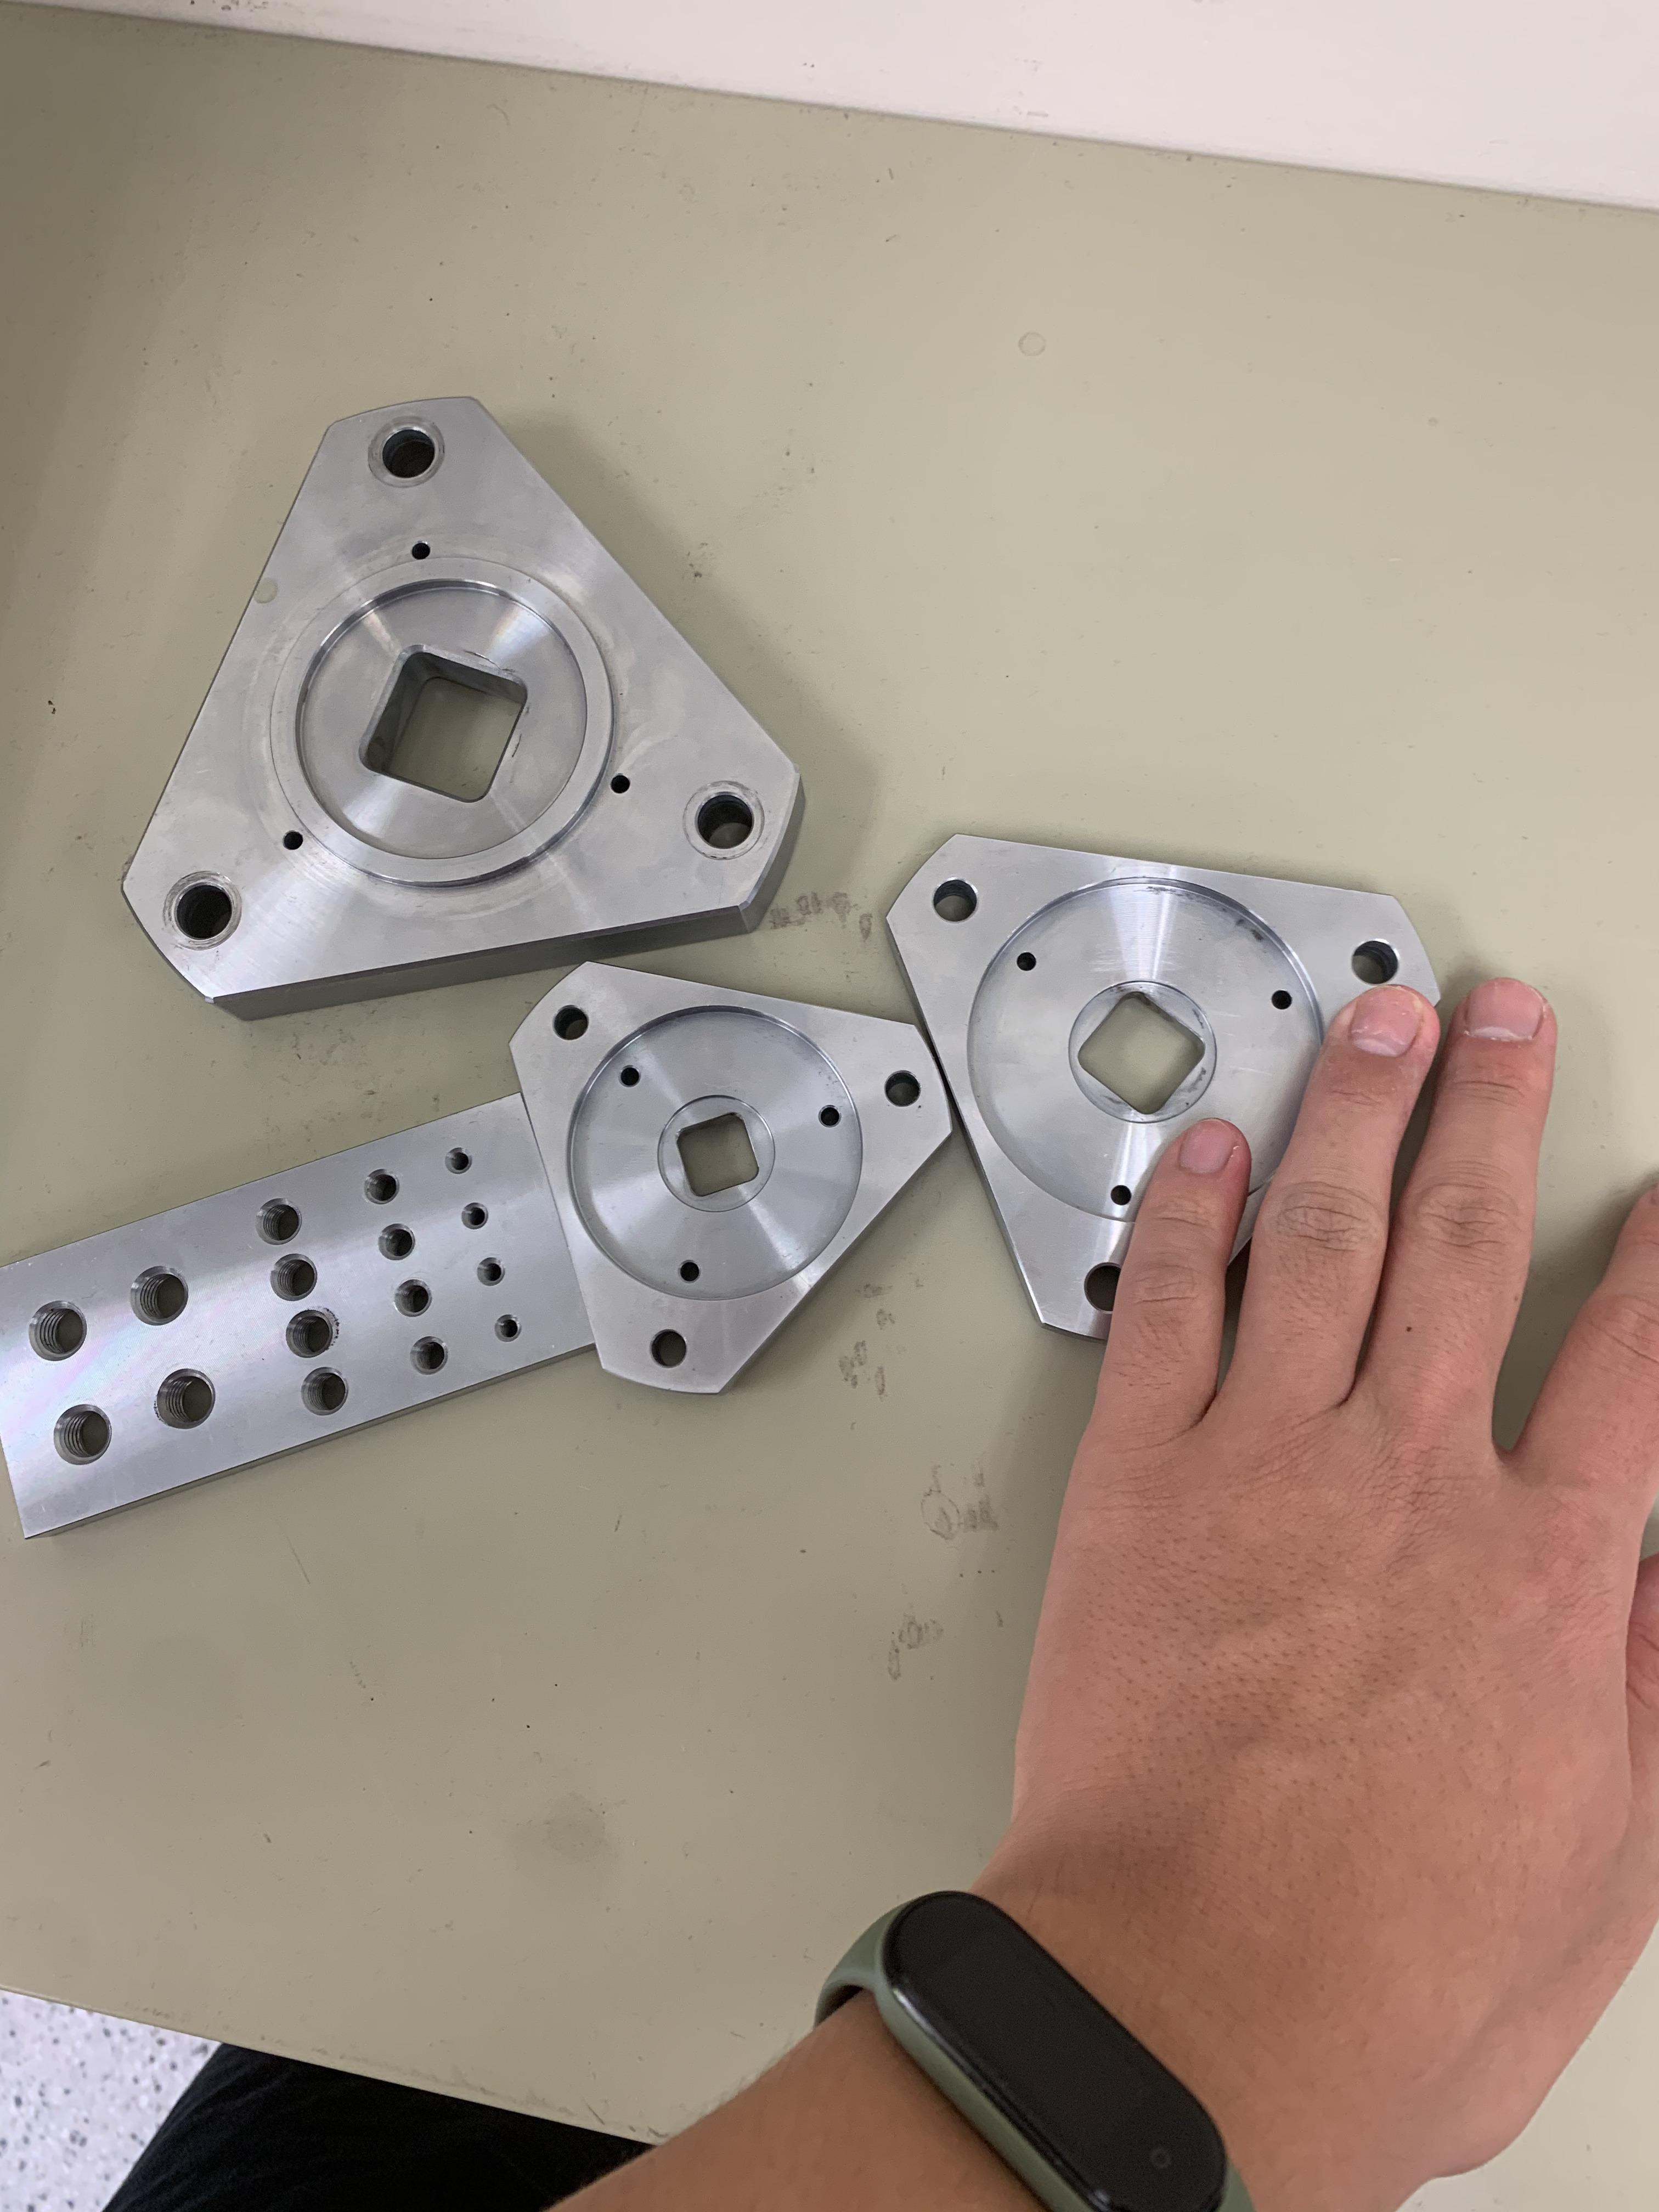hole: (359, 411, 455, 503), (681, 775, 769, 866), (159, 867, 249, 953), (120, 1256, 197, 1334), (49, 1390, 122, 1472), (17, 1292, 94, 1367), (152, 1359, 225, 1435), (286, 1364, 361, 1421), (274, 1310, 350, 1366), (247, 1191, 317, 1247), (260, 1249, 329, 1305), (1340, 934, 1410, 986), (640, 1318, 699, 1379), (354, 1160, 415, 1216), (927, 874, 985, 932), (1070, 1258, 1121, 1318), (542, 1000, 603, 1045), (873, 1066, 931, 1113), (389, 1271, 434, 1327), (404, 1331, 451, 1378), (369, 1219, 418, 1264), (467, 1254, 514, 1296), (662, 1254, 713, 1291), (807, 1096, 847, 1134), (610, 1059, 652, 1096), (455, 1197, 497, 1233), (490, 1312, 532, 1346), (443, 1146, 477, 1181), (1000, 1167, 1035, 1195), (1107, 1179, 1134, 1211), (1269, 981, 1295, 1014), (1014, 948, 1039, 975)
